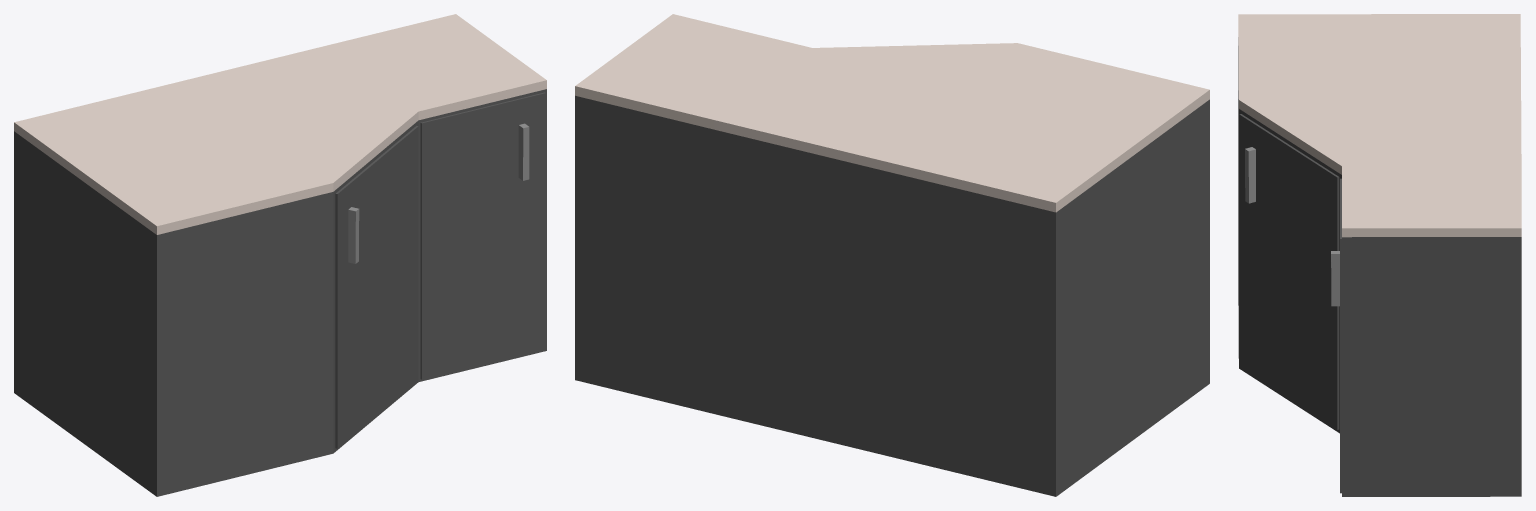
File: Kitchen_Cabinet_2.fbx
3 renders of one model, left to right at view 1: azimuth 30°, elevation 25°; view 2: azimuth 150°, elevation 25°; view 3: azimuth 270°, elevation 25°, orthographic. The views are drawn at different scales.
Visible parts, largest first — view 1: Kitchen_Cabinet_2; view 2: Kitchen_Cabinet_2; view 3: Kitchen_Cabinet_2.
Part boxes in pixels (bbox=[...]): Kitchen_Cabinet_2: bbox=[14, 14, 546, 496]; Kitchen_Cabinet_2: bbox=[575, 14, 1209, 496]; Kitchen_Cabinet_2: bbox=[1238, 14, 1521, 496].
Size of the model in its own units: 221 by 124 by 129.
